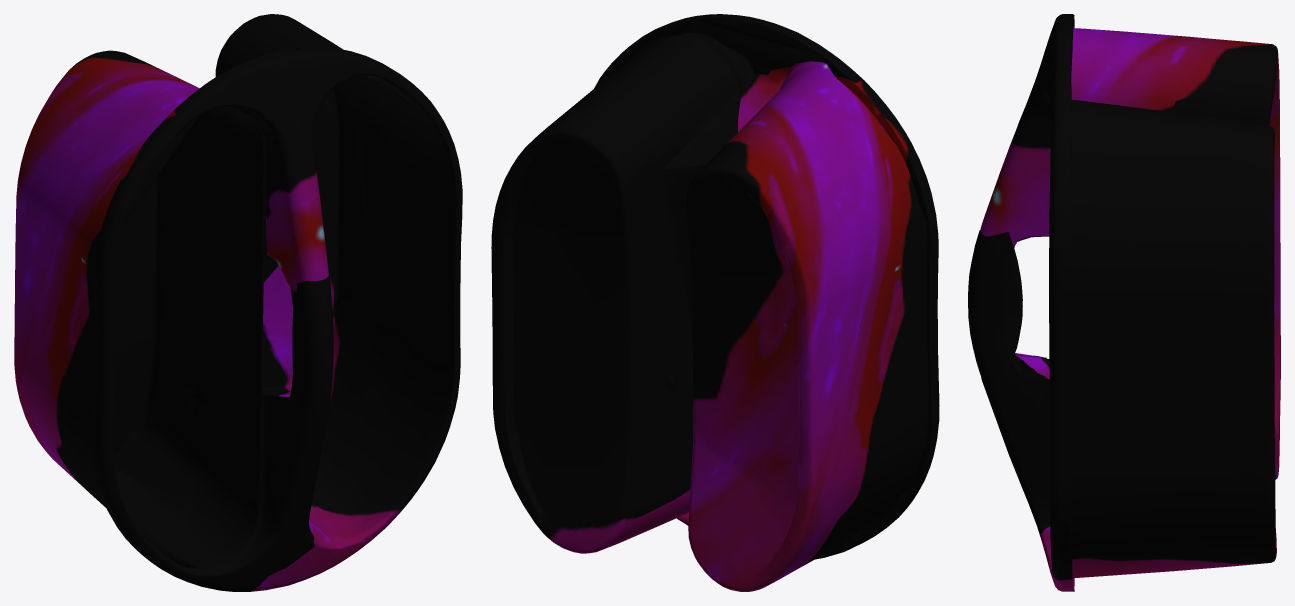
3 views of the same model, side by side, from view 1: azimuth 30°, elevation 25°; view 2: azimuth 150°, elevation 25°; view 3: azimuth 270°, elevation 25° (orthographic).
Parts seen in each view (by area): view 1: model.020; view 2: model.020; view 3: model.020.
Part boxes in pixels (<box>): model.020: <box>14,14,462,591</box>; model.020: <box>491,14,939,591</box>; model.020: <box>968,14,1280,591</box>.
Size of the model in its own units: 0.221 by 0.3126 by 0.1641.
